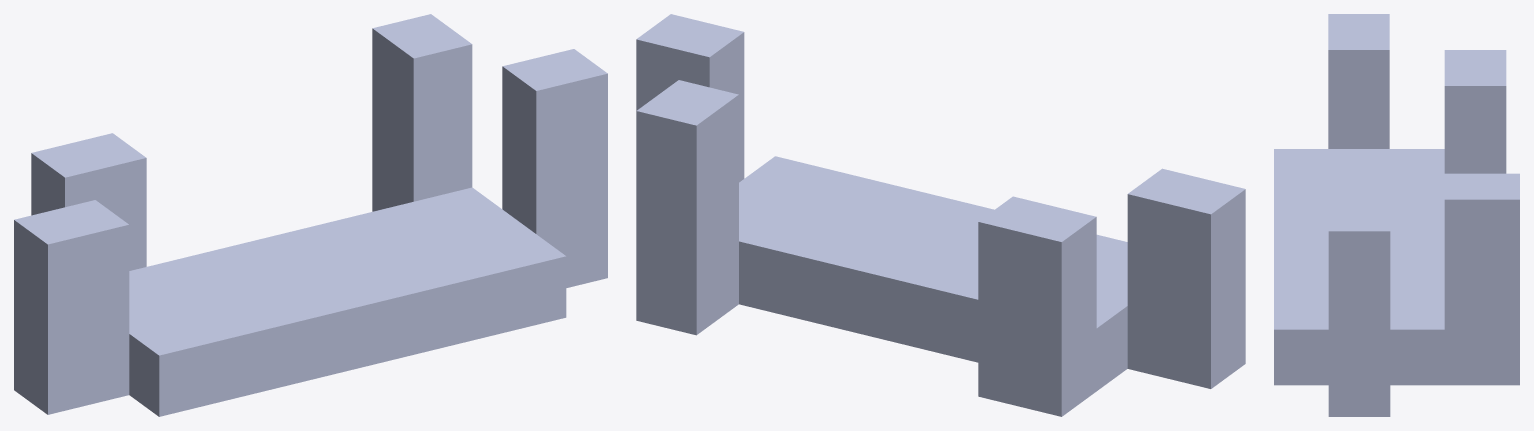
3 views of the same model, side by side, from view 1: azimuth 30°, elevation 25°; view 2: azimuth 150°, elevation 25°; view 3: azimuth 270°, elevation 25° (orthographic). The views are drawn at different scales.
Visible parts, largest first — view 1: mesh_1_Long-5; view 2: mesh_1_Long-5; view 3: mesh_1_Long-5.
Boxes of the visible parts, left/top/right/bottom form: mesh_1_Long-5: left=14, top=14, right=607, bottom=416; mesh_1_Long-5: left=636, top=14, right=1245, bottom=416; mesh_1_Long-5: left=1274, top=14, right=1519, bottom=416.
Bounding box in the file's own units: 0.172 × 0.06 × 0.072.
